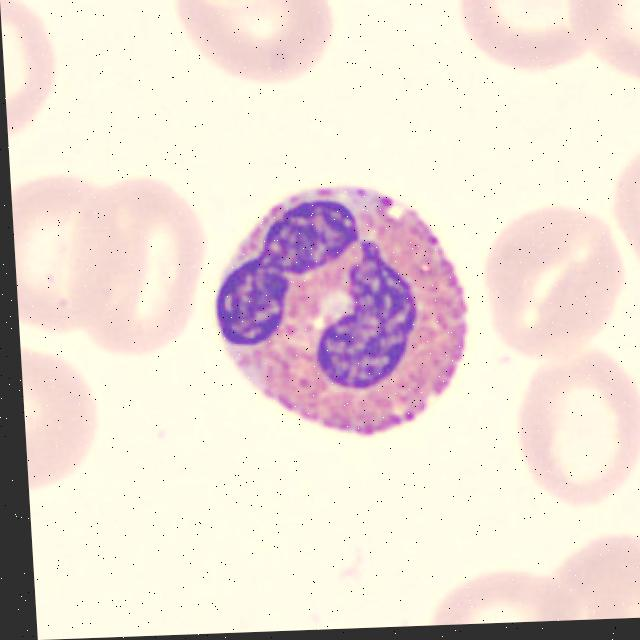eosinophil: (200, 178, 476, 451)
rbc: (64, 153, 223, 357), (476, 192, 640, 380), (508, 333, 640, 517), (162, 0, 353, 102), (11, 174, 124, 340), (20, 334, 104, 510), (450, 0, 616, 87), (420, 557, 590, 625), (528, 523, 640, 622), (0, 0, 64, 149), (562, 0, 640, 92), (611, 153, 640, 282)
